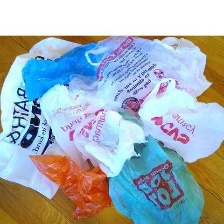plastic_bag: (0, 35, 85, 204), (88, 33, 214, 119), (103, 133, 211, 224), (135, 73, 224, 168), (26, 148, 125, 223), (12, 41, 116, 106), (39, 77, 101, 175), (69, 108, 149, 182)
